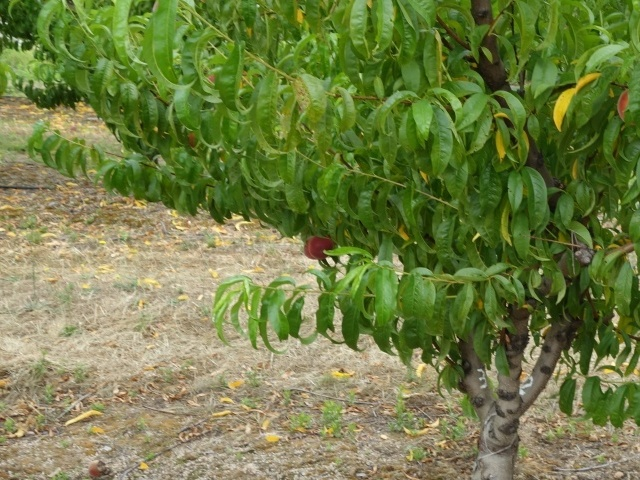peach: (302, 232, 338, 260), (611, 83, 633, 125)
